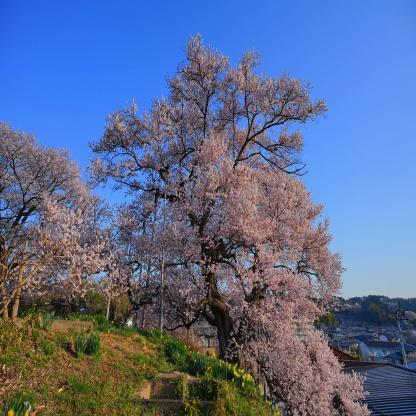EdohiganSakura: (87, 30, 373, 416)
